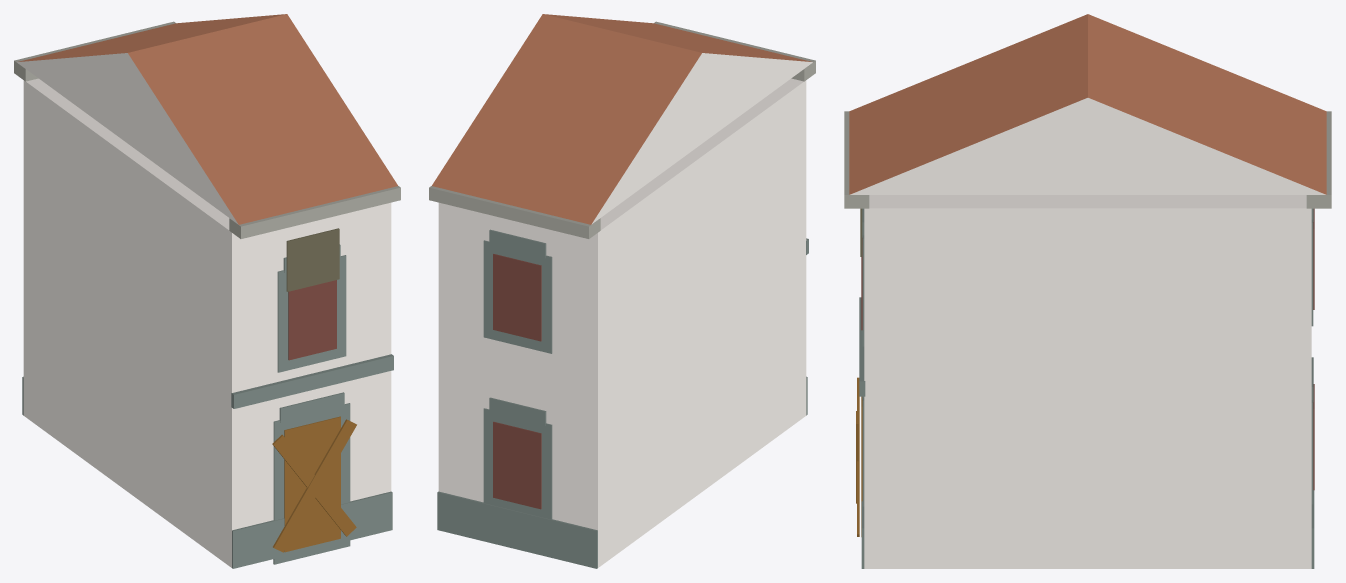
The model's file is SM_KitCuerpo_v4_LOD1.fbx.
The picture shows the model from 3 angles, left to right: view 1: azimuth 30°, elevation 25°; view 2: azimuth 150°, elevation 25°; view 3: azimuth 270°, elevation 25°; orthographic projection. The views are drawn at different scales.
Visible parts, largest first — view 1: SM_bloques.kit_cuerpo_v4_LOD1; view 2: SM_bloques.kit_cuerpo_v4_LOD1; view 3: SM_bloques.kit_cuerpo_v4_LOD1.
Boxes of the visible parts, box(x1,y1,x2,y2) form: SM_bloques.kit_cuerpo_v4_LOD1: box(14, 14, 400, 568); SM_bloques.kit_cuerpo_v4_LOD1: box(429, 14, 815, 568); SM_bloques.kit_cuerpo_v4_LOD1: box(844, 14, 1331, 568).
Size of the model in its own units: 3.99 by 10.61 by 9.8.
